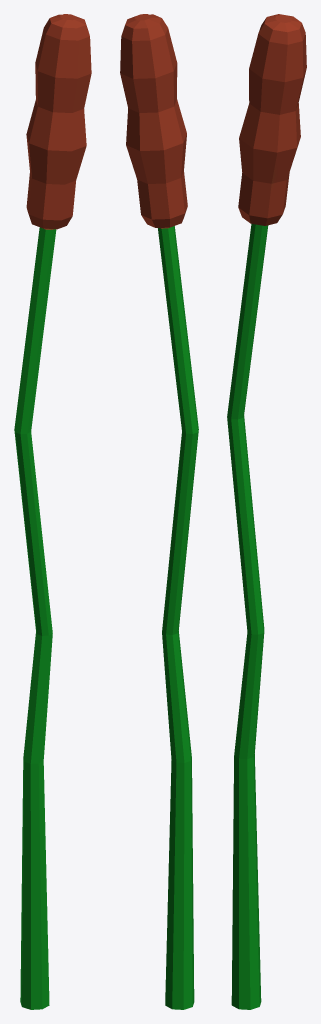
File: sesleria_heuffleriana.fbx
3 renders of one model, left to right at view 1: azimuth 30°, elevation 25°; view 2: azimuth 150°, elevation 25°; view 3: azimuth 330°, elevation 25°, orthographic.
Parts seen in each view (by area): view 1: sesleria_heuffleriana; view 2: sesleria_heuffleriana; view 3: sesleria_heuffleriana.
Part boxes in pixels (bbox=[...]): sesleria_heuffleriana: bbox=[14, 14, 91, 1009]; sesleria_heuffleriana: bbox=[120, 14, 198, 1009]; sesleria_heuffleriana: bbox=[227, 14, 306, 1009].
Bounding box in the file's own units: 520 × 6559 × 383.
1 material, 1 textured.
